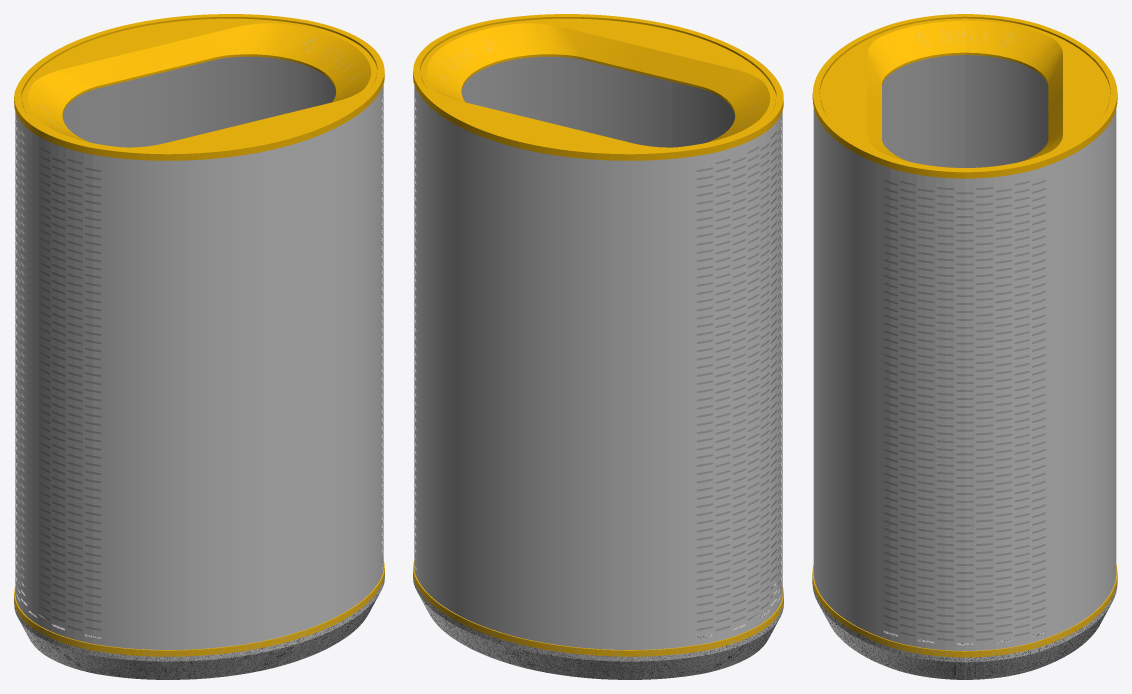
3 renders of one model, left to right at view 1: azimuth 30°, elevation 25°; view 2: azimuth 150°, elevation 25°; view 3: azimuth 270°, elevation 25°, orthographic. The views are drawn at different scales.
Parts seen in each view (by area): view 1: mesh31_mesh31-geometry, mesh23_mesh23-geometry, mesh24_mesh24-geometry, mesh19_mesh19-geometry, mesh25_mesh25-geometry, mesh1_mesh1-geometry, mesh27_mesh27-geometry, mesh20_mesh20-geometry, mesh22_mesh22-geometry, mesh28_mesh28-geometry, mesh26_mesh26-geometry, mesh32_mesh32-geometry (+3 smaller); view 2: mesh30_mesh30-geometry, mesh22_mesh22-geometry, mesh27_mesh27-geometry, mesh1_mesh1-geometry, mesh28_mesh28-geometry, mesh19_mesh19-geometry, mesh24_mesh24-geometry, mesh21_mesh21-geometry, mesh23_mesh23-geometry, mesh25_mesh25-geometry, mesh29_mesh29-geometry, mesh32_mesh32-geometry (+3 smaller); view 3: mesh31_mesh31-geometry, mesh30_mesh30-geometry, mesh22_mesh22-geometry, mesh23_mesh23-geometry, mesh27_mesh27-geometry, mesh24_mesh24-geometry, mesh28_mesh28-geometry, mesh25_mesh25-geometry, mesh1_mesh1-geometry, mesh19_mesh19-geometry, mesh20_mesh20-geometry, mesh21_mesh21-geometry (+3 smaller).
Part boxes in pixels (x1,y1,x2,y2): mesh31_mesh31-geometry: (109,92,379,649); mesh23_mesh23-geometry: (40,56,335,631); mesh24_mesh24-geometry: (32,132,102,645); mesh19_mesh19-geometry: (31,14,366,160); mesh25_mesh25-geometry: (38,136,83,641); mesh1_mesh1-geometry: (14,26,384,148); mesh27_mesh27-geometry: (15,84,383,620); mesh20_mesh20-geometry: (31,624,278,679); mesh22_mesh22-geometry: (24,81,125,614); mesh28_mesh28-geometry: (15,96,383,616); mesh26_mesh26-geometry: (102,156,108,646); mesh32_mesh32-geometry: (14,561,384,656); mesh30_mesh30-geometry: (418,93,689,649); mesh22_mesh22-geometry: (461,56,757,631); mesh27_mesh27-geometry: (695,132,765,645); mesh1_mesh1-geometry: (430,14,766,160); mesh28_mesh28-geometry: (714,136,759,641); mesh19_mesh19-geometry: (413,26,783,148); mesh24_mesh24-geometry: (414,85,782,620); mesh21_mesh21-geometry: (519,624,766,679); mesh23_mesh23-geometry: (672,82,773,614); mesh25_mesh25-geometry: (414,95,782,616); mesh29_mesh29-geometry: (689,156,695,646); mesh32_mesh32-geometry: (413,560,783,656); mesh31_mesh31-geometry: (813,108,878,635); mesh30_mesh30-geometry: (1051,109,1116,635); mesh22_mesh22-geometry: (884,55,1048,643); mesh23_mesh23-geometry: (882,55,1045,643); mesh27_mesh27-geometry: (883,166,964,650); mesh24_mesh24-geometry: (965,166,1046,650); mesh28_mesh28-geometry: (899,170,954,650); mesh25_mesh25-geometry: (975,171,1030,650); mesh1_mesh1-geometry: (812,14,1117,178); mesh19_mesh19-geometry: (813,14,1117,178); mesh20_mesh20-geometry: (965,579,1117,679); mesh21_mesh21-geometry: (812,579,964,679).
Bounding box in the file's own units: 0.5035 × 0.7604 × 0.4101.
